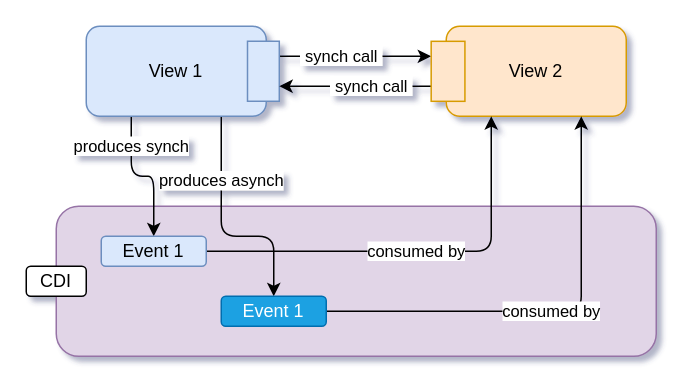
Some shapes in this 692 by 392 pixel diagram are drawn without their labels. Each missing label, with the centre of its shape:
"API 1" belongs at (262,70).
"API 2" belongs at (447,70).
